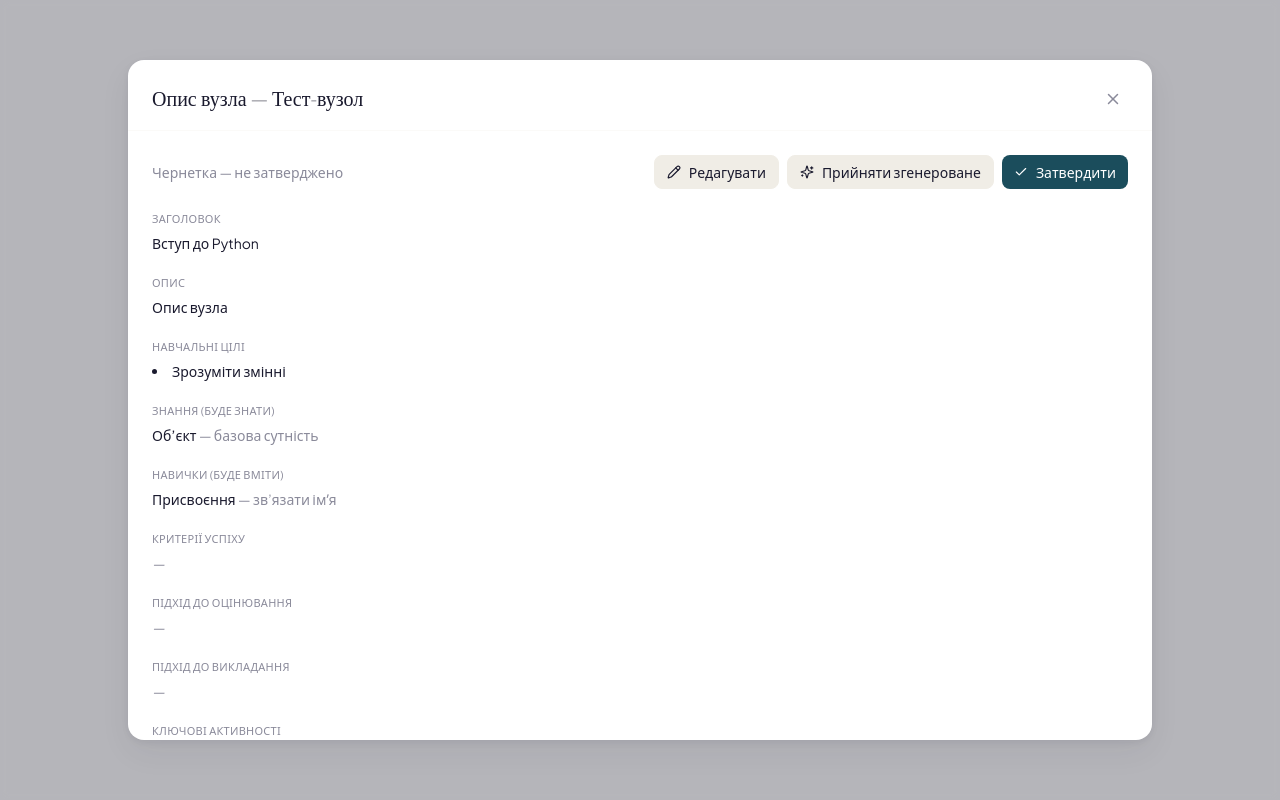
Test case: SummaryModal — overview mode (Task 3.2.5b c3) › enters edit mode with the title prefilled as a value
The image size is (1280, 800).
What coordinates should you click on to do the following:
click the button "Редагувати"
I would click on:
 (716, 172)
Its box is [654,155,779,189].
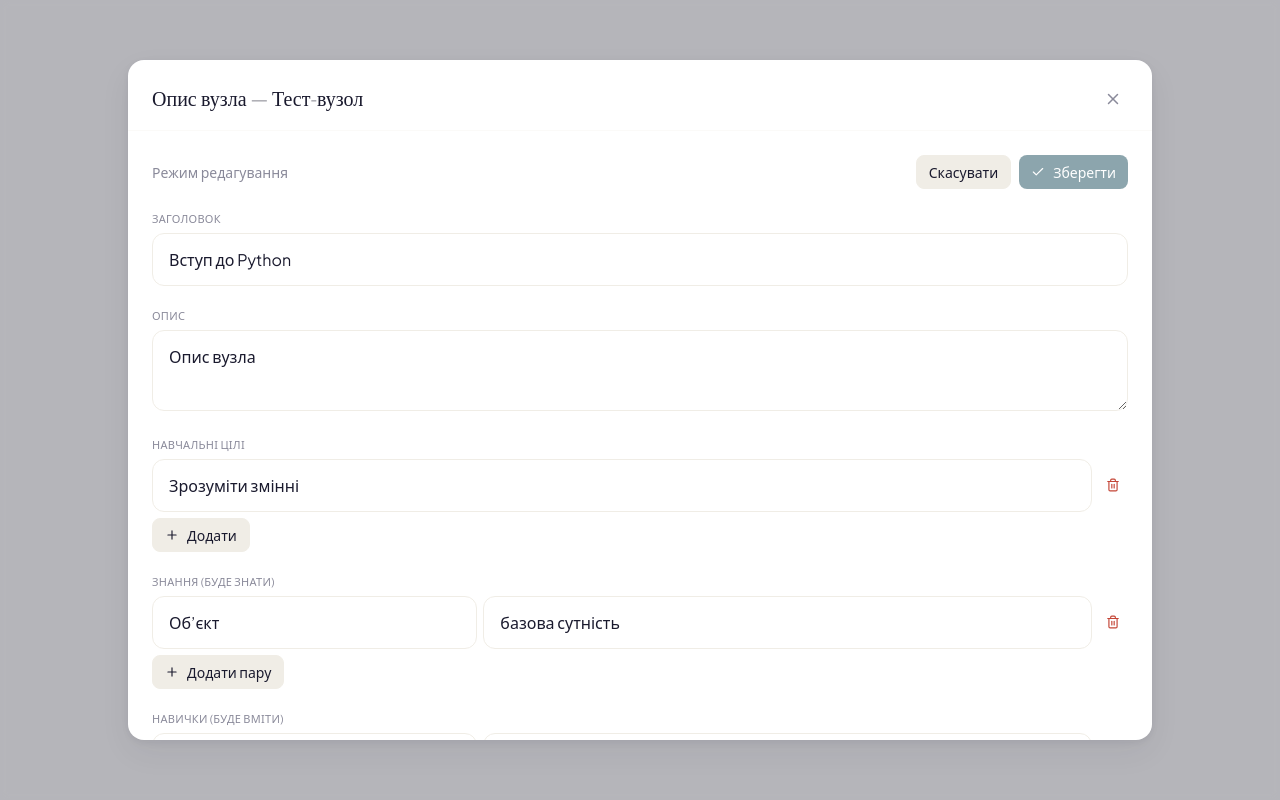
Check: the field showing "Вступ до Python" below "Заголовок" is shown, box [152,233,1128,286]
